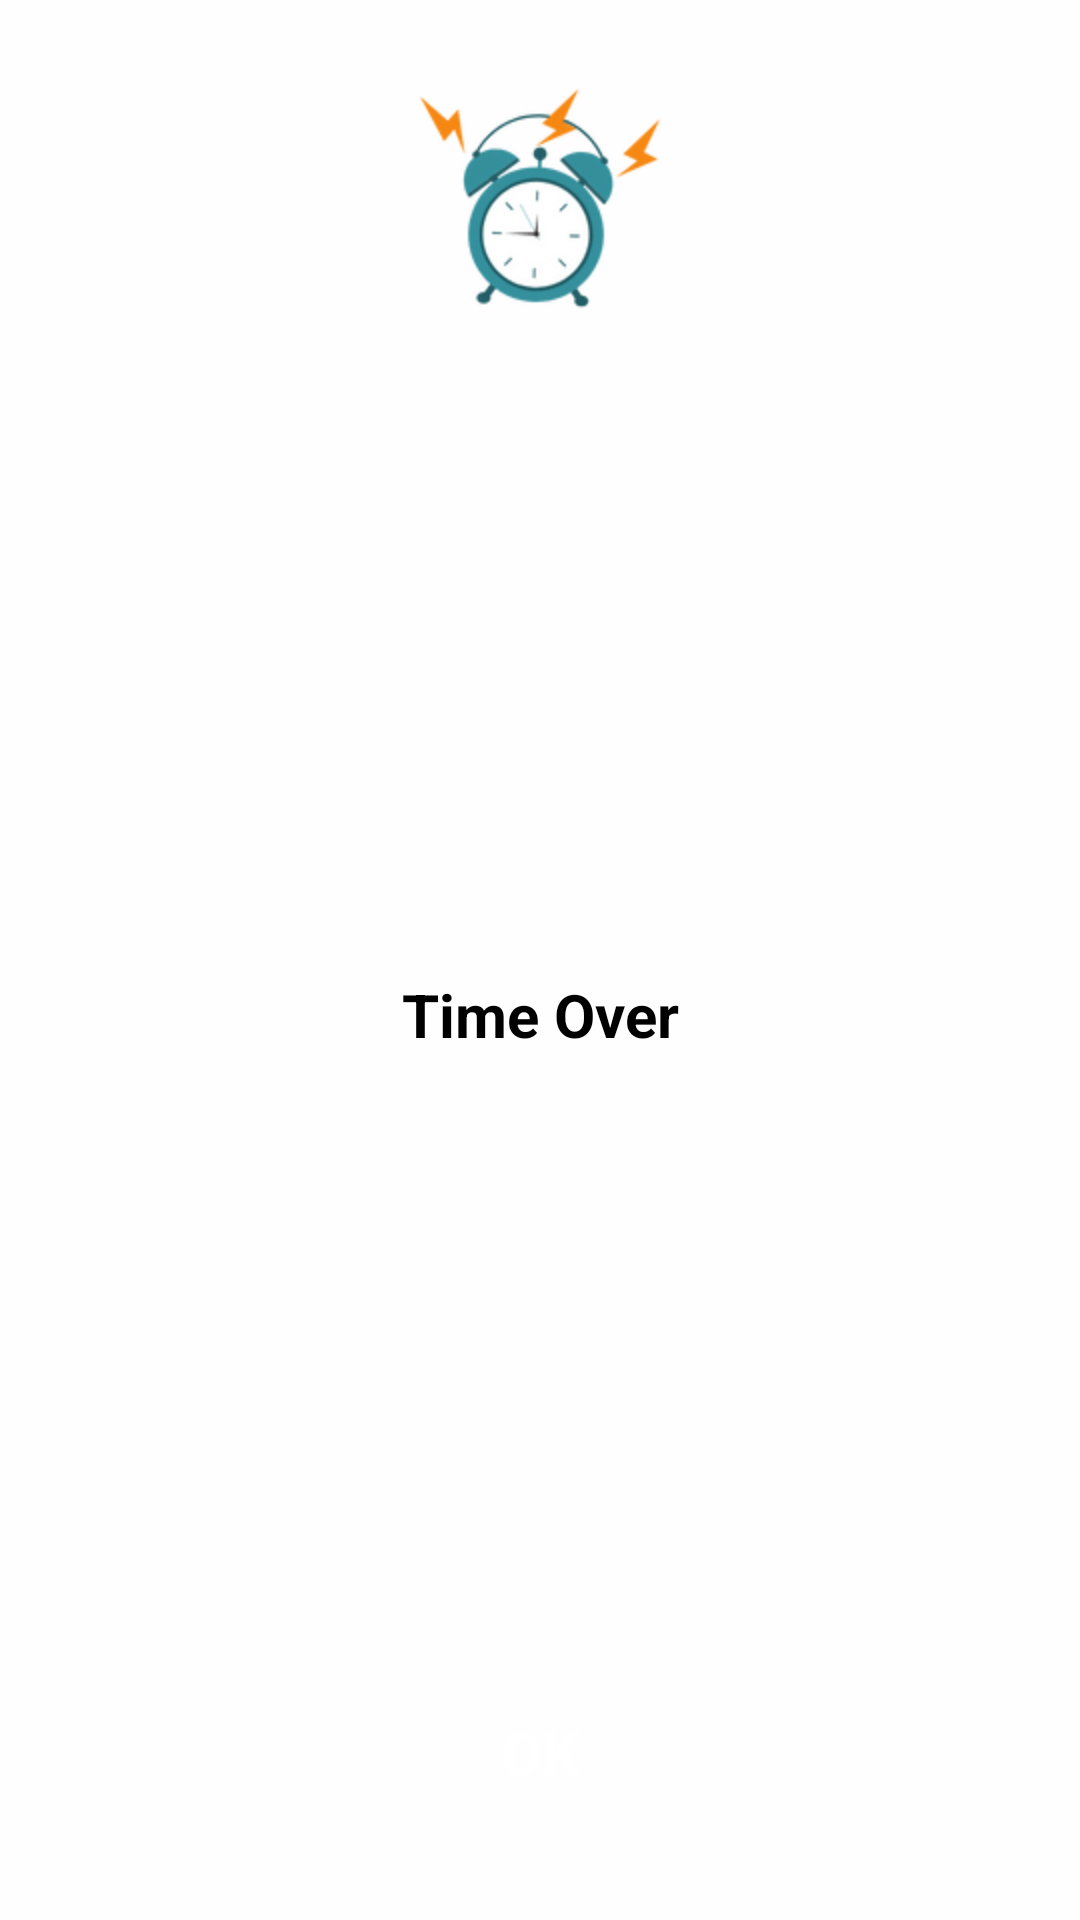

Where icons sit on this 1080*1920 app screen, as (x1, y1, x2, y2):
timeout: (420, 89, 660, 308)
